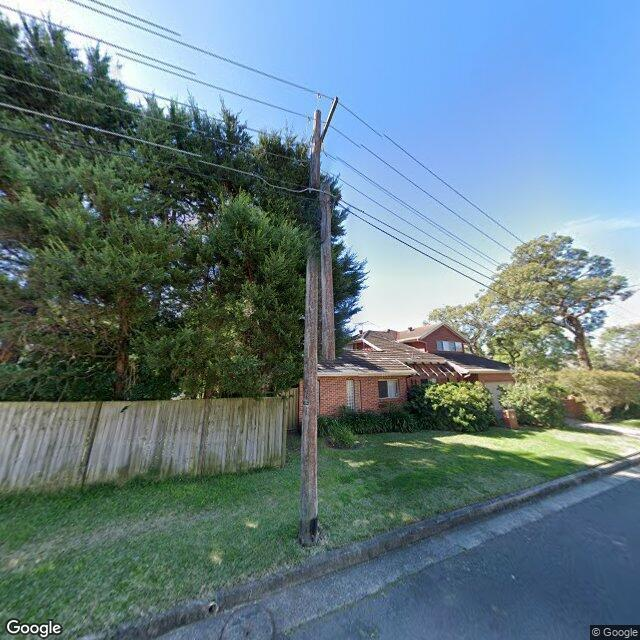crossarm: (308, 95, 339, 162)
timber-pole: (296, 110, 336, 546)
